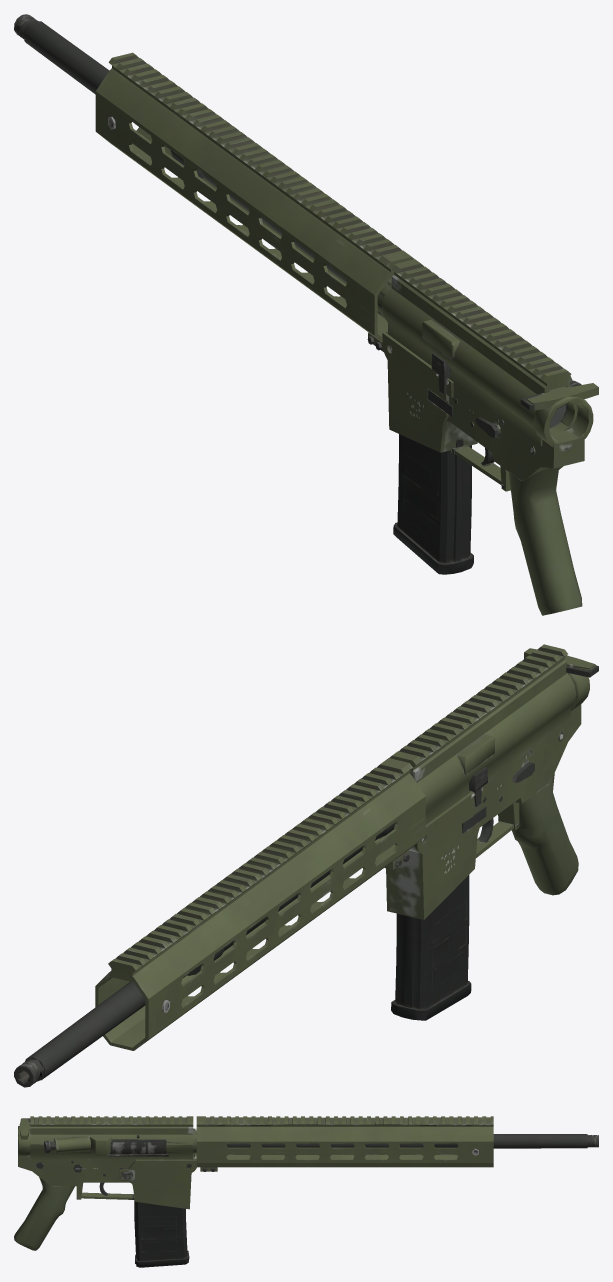
File: fuzil_308_precisao_leve.glb
3 views of the same model, one above another, from view 1: azimuth 30°, elevation 25°; view 2: azimuth 150°, elevation 25°; view 3: azimuth 270°, elevation 25° (orthographic). The views are drawn at different scales.
Parts seen in each view (by area): view 1: fuzil_308_precisao_leve; view 2: fuzil_308_precisao_leve; view 3: fuzil_308_precisao_leve.
Boxes of the visible parts, x1,y1,x2,y2 form: fuzil_308_precisao_leve: [14, 14, 598, 615]; fuzil_308_precisao_leve: [14, 644, 598, 1087]; fuzil_308_precisao_leve: [14, 1116, 598, 1267].
Bounding box in the file's own units: 0.0638 × 0.2138 × 0.7816.
1 material, 1 textured.
